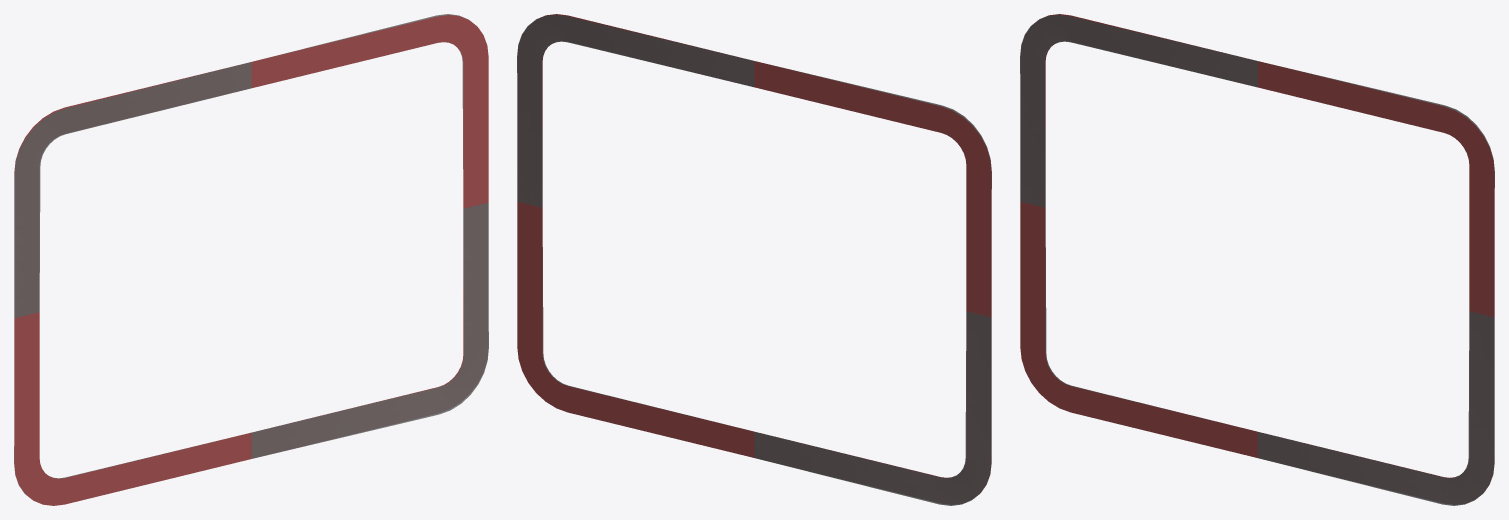
Rendered from warping-rhs-150-120-8-16-8-690.glb.
3 renders of one model, left to right at view 1: azimuth 30°, elevation 25°; view 2: azimuth 150°, elevation 25°; view 3: azimuth 330°, elevation 25°, orthographic.
Parts seen in each view (by area): view 1: undeformed cross-section, cross-section with warping; view 2: undeformed cross-section, cross-section with warping; view 3: undeformed cross-section, cross-section with warping.
Boxes of the visible parts, bbox=[...] form: undeformed cross-section: bbox=[14, 15, 488, 505]; cross-section with warping: bbox=[14, 14, 488, 493]; undeformed cross-section: bbox=[517, 14, 991, 503]; cross-section with warping: bbox=[517, 15, 991, 505]; undeformed cross-section: bbox=[1020, 14, 1494, 504]; cross-section with warping: bbox=[1020, 15, 1494, 505].
Bounding box in the file's own units: 0.15 × 0.12 × 0.00148.
